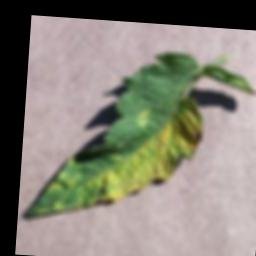Leaf_Mold: (77, 90, 205, 213), (46, 154, 80, 194)
